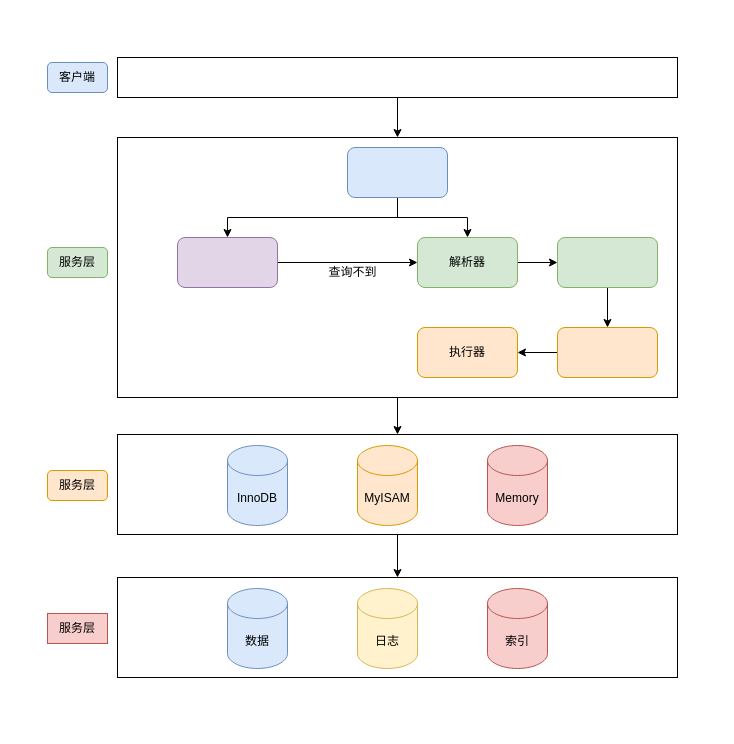
Some shapes in this 734 by 744 pixel diagram are drawn without their labels. Each missing label, with the centre of its shape:
JDBC、PHP、Python、Net: (x=397, y=77)
优化器: (x=607, y=352)
缓冲池 查询缓存: (x=227, y=262)
连接器: (x=397, y=172)
预处理器: (x=607, y=262)
